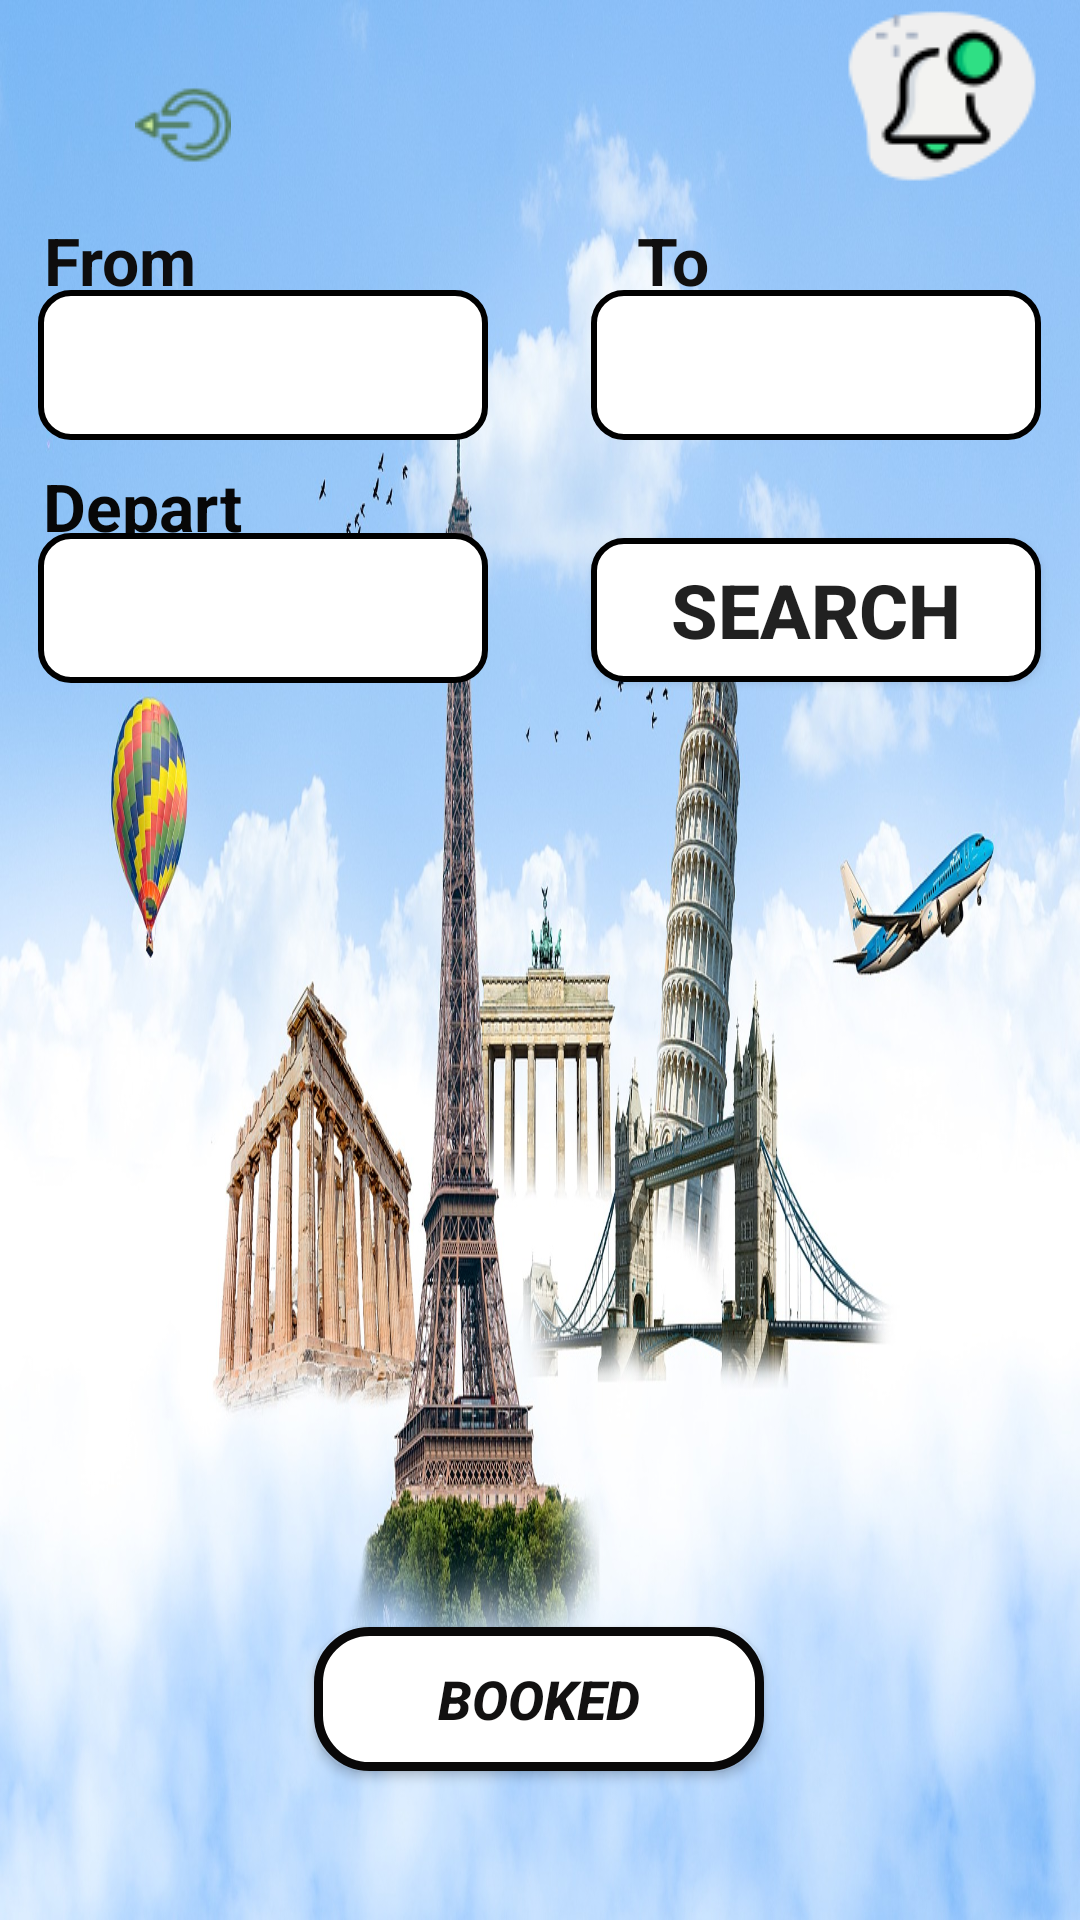

Icons on this 1080 x 1920 Android screen, each with the point to tap as (x,y):
bell: (942,96)
